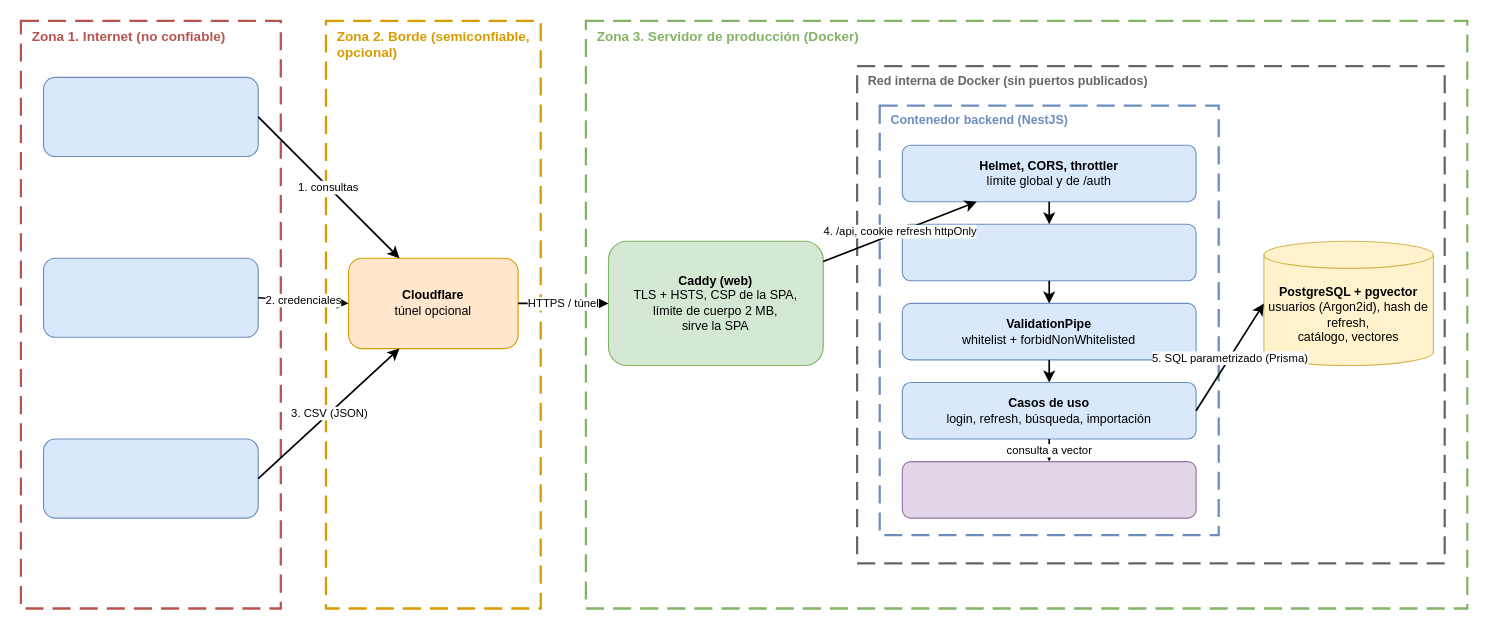
Some shapes in this 1487 by 628 pixel diagram are drawn without their labels. The centre of each missing label's shape, as x and y in pixels:
"Administrador (ADMIN) navegador, importa CSV" belongs at (150,478).
"JwtAuthGuard + RolesGuard verifica firma y rol" belongs at (1048,252).
"Lector anónimo navegador" belongs at (150,116).
"Modelo e5 local embeddings sin IA externa" belongs at (1048,489).
"Personal (STAFF) access token en memoria" belongs at (150,297).
